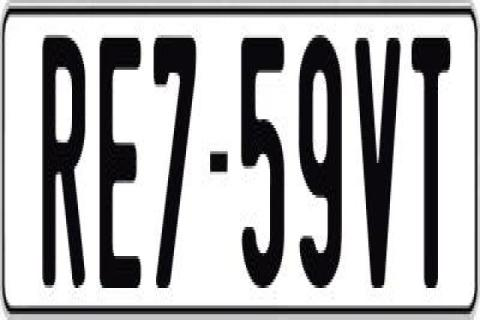0: (152, 35, 198, 299), (238, 32, 286, 285), (298, 35, 342, 288)
E: (96, 35, 140, 288)
R: (42, 32, 88, 296)
T: (412, 32, 454, 282)
V: (356, 35, 406, 294)
